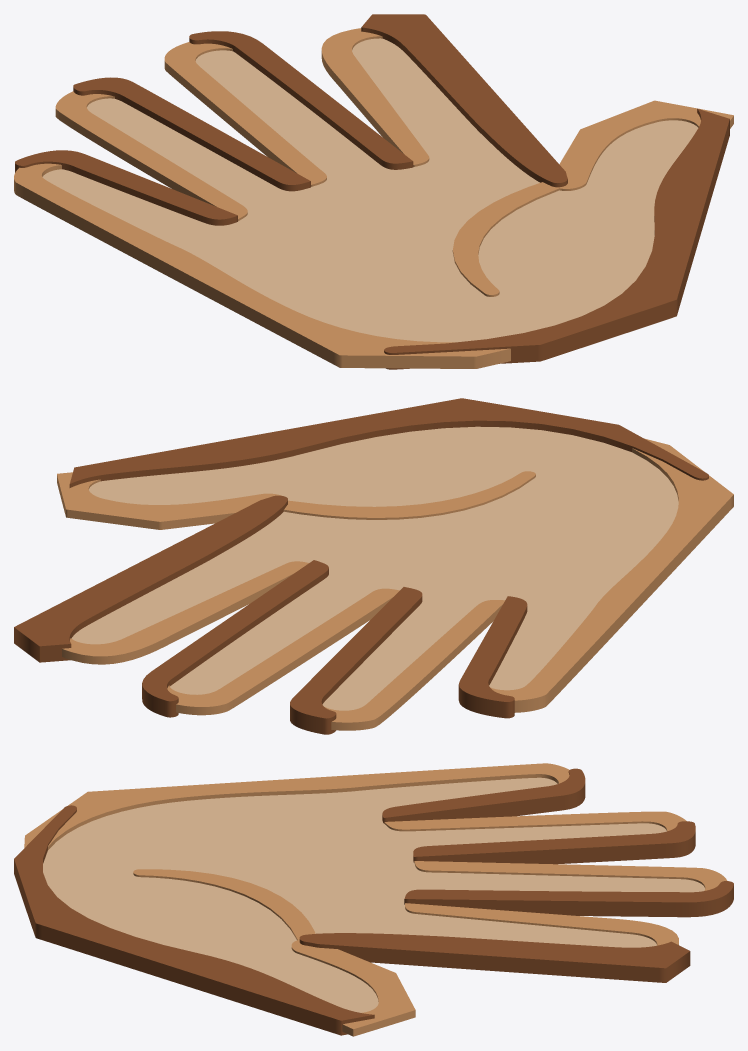
File: emoji_u1f590_1f3fc.glb
The picture shows the model from 3 angles, top to bottom: view 1: azimuth 30°, elevation 25°; view 2: azimuth 150°, elevation 25°; view 3: azimuth 270°, elevation 25°; orthographic projection. The views are drawn at different scales.
Visible parts, largest first — view 1: emoji_u1f590_1f3fc; view 2: emoji_u1f590_1f3fc; view 3: emoji_u1f590_1f3fc.
Boxes of the visible parts, left/top/right/bottom form: emoji_u1f590_1f3fc: left=14, top=14, right=733, bottom=369; emoji_u1f590_1f3fc: left=14, top=398, right=733, bottom=734; emoji_u1f590_1f3fc: left=14, top=763, right=733, bottom=1036.
Size of the model in its own units: 0.0306 by 0.0008 by 0.0352.
